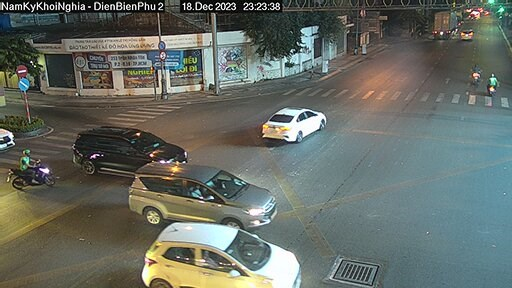car: (123, 208, 310, 287), (121, 157, 282, 226), (61, 115, 188, 175), (256, 101, 327, 148)
motorbike: (3, 147, 54, 196), (484, 72, 500, 96), (464, 64, 480, 87)
truck: (431, 9, 457, 42)
